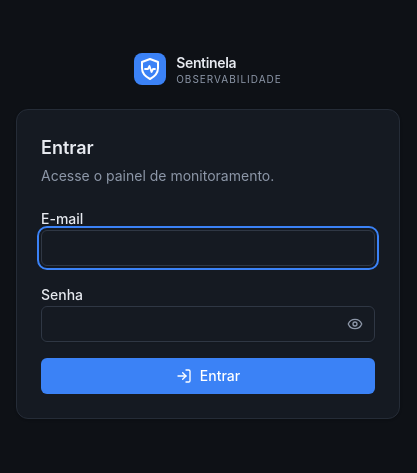
Scenario: login › informa o tempo de bloqueio (429 LOGIN_LOCKED)
The width and height of the screenshot is (417, 473).
Type "a@b.com" into the field labelled "E-mail" at (208, 248), box [41,230,375,266]
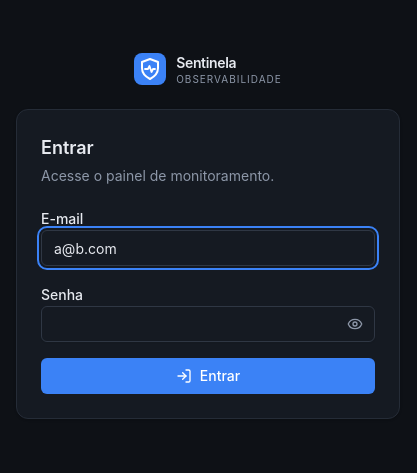
Type "x" into the password field labelled "Senha" at (208, 324), box [41,306,375,342]
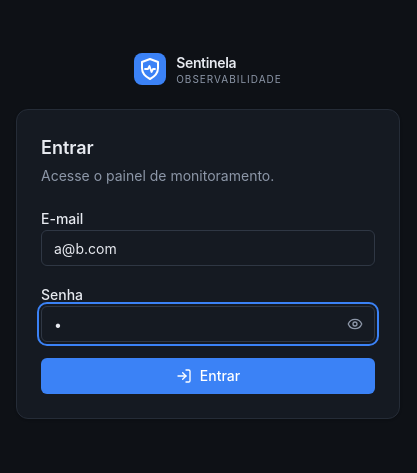
Click the button "Entrar" at (208, 376), box [41,358,375,394]
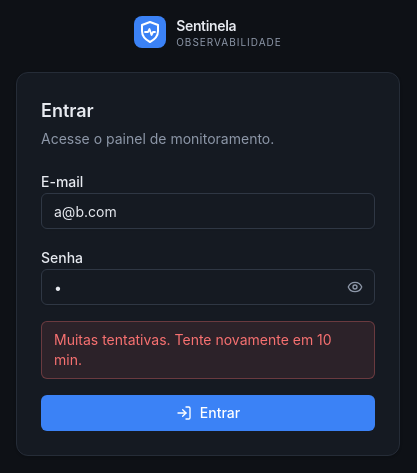
Result: the text "Muitas tentativas. Tente novamente em 10 min." is shown at [41,321,375,379]
